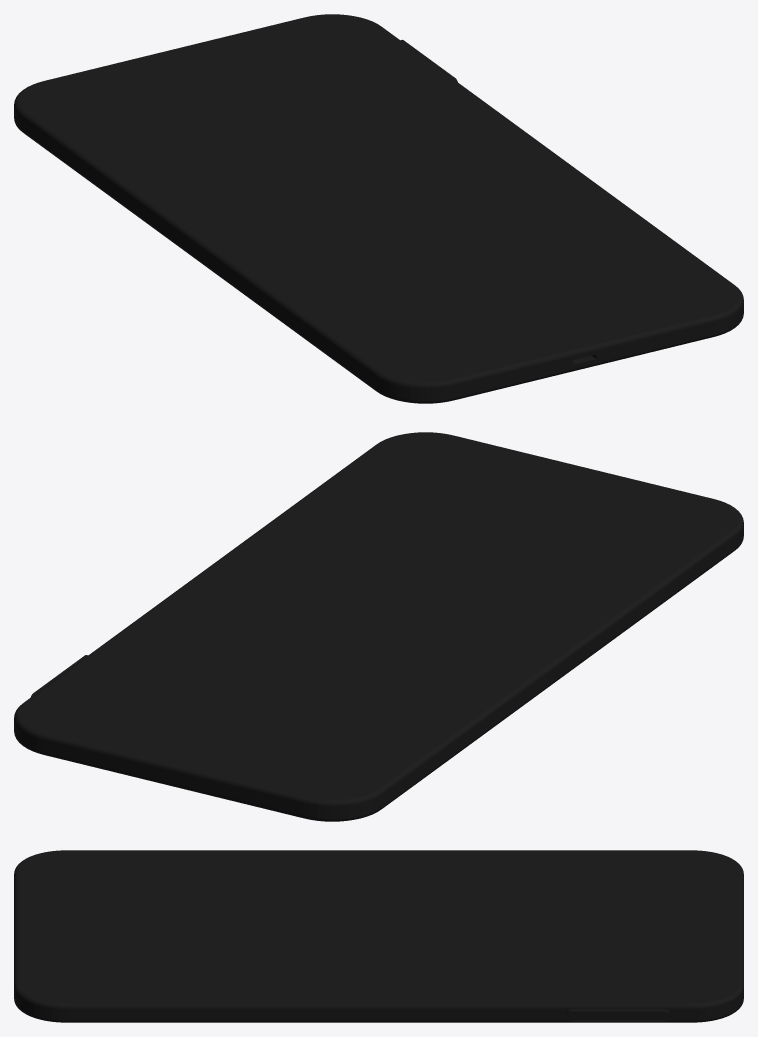
Rendered from newSmartphone.fbx.
The picture shows the model from 3 angles, top to bottom: view 1: azimuth 30°, elevation 25°; view 2: azimuth 150°, elevation 25°; view 3: azimuth 270°, elevation 25°; orthographic projection. The views are drawn at different scales.
Parts seen in each view (by area): view 1: Cube; view 2: Cube; view 3: Cube.
Part boxes in pixels (left/top/right/bottom): Cube: left=14, top=14, right=743, bottom=403; Cube: left=14, top=432, right=743, bottom=821; Cube: left=14, top=850, right=743, bottom=1022.
Size of the model in its own units: 436 by 24.36 by 850.
